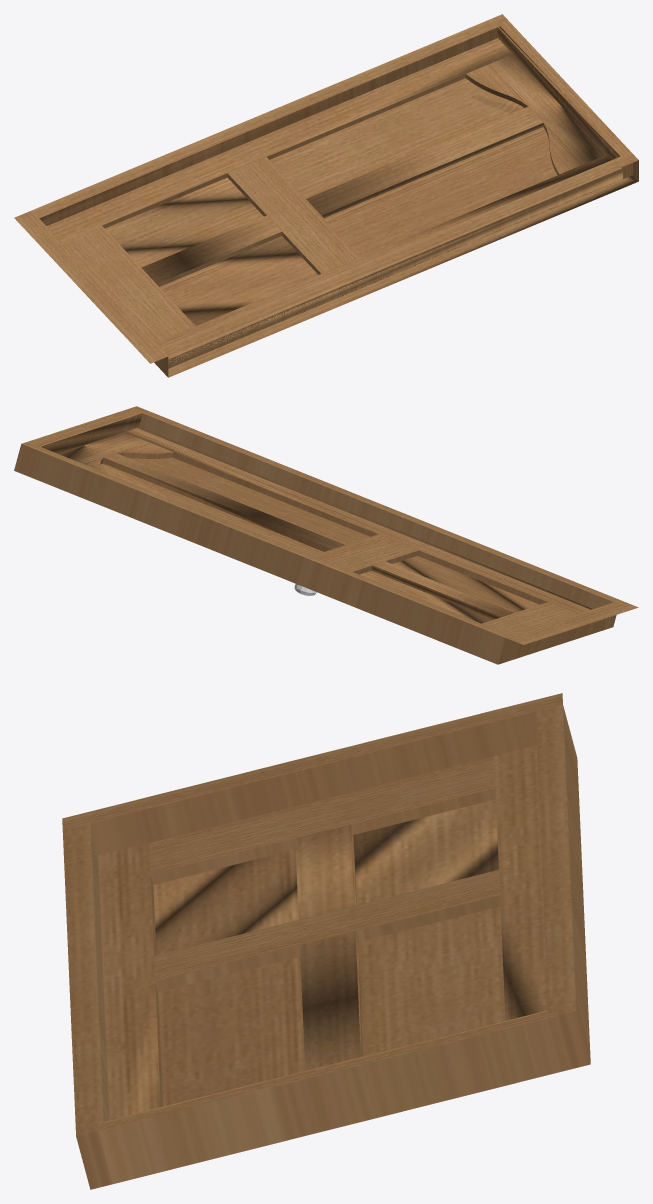
Rendered from trash-door.fbx.
3 views of the same model, one above another, from view 1: azimuth 30°, elevation 25°; view 2: azimuth 150°, elevation 25°; view 3: azimuth 270°, elevation 25° (orthographic). The views are drawn at different scales.
Visible parts, largest first — view 1: polySurface173; view 2: polySurface173; view 3: polySurface173.
Part boxes in pixels (x1,y1,x2,y2): polySurface173: [14, 14, 638, 377]; polySurface173: [14, 406, 638, 664]; polySurface173: [62, 693, 590, 1189].
Size of the model in its own units: 16.9 by 5.11 by 7.63.
Materials: 2 (1 with a texture image).
